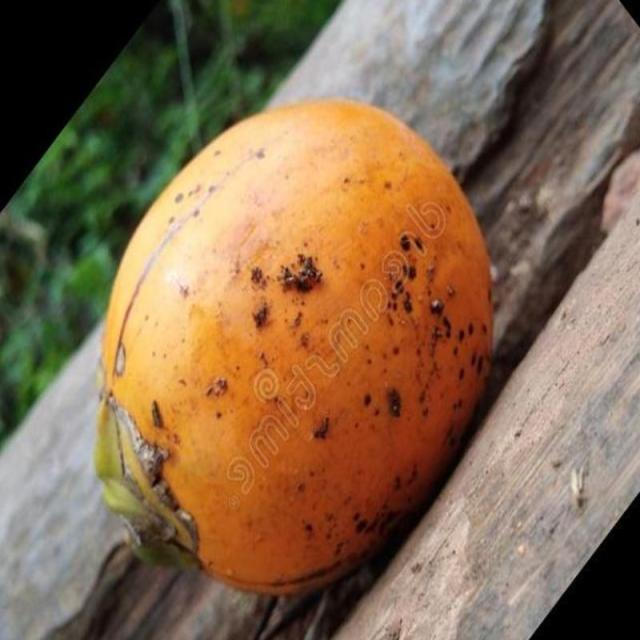good: (90, 98, 494, 604)
